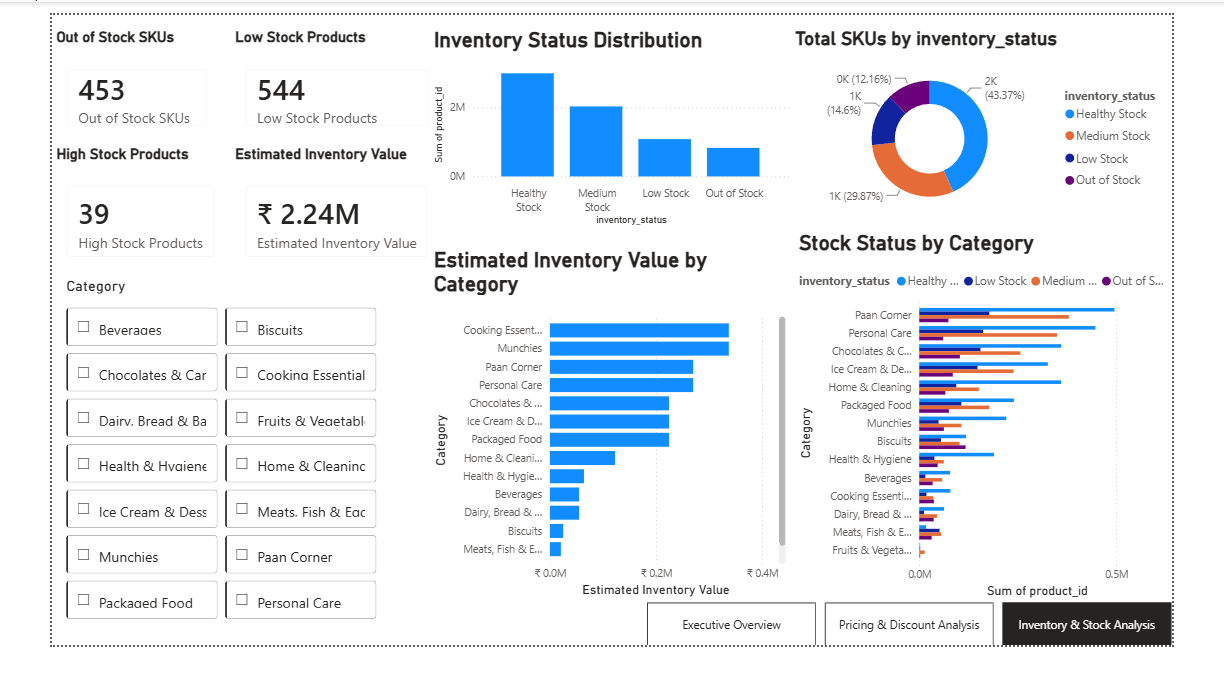

What the dashboard file says about the page in this screenshot:
{"tool":"powerbi","page":{"name":"Inventory & Stock Analysis","canvas":[1280,720],"ordinal":2},"visuals":[{"type":"cardVisual","title":"Low Stock Products","fields":{"Data":["zepto_analysis zepto_analysis.Low Stock Products"]},"box":[203.6,14.4,244,129.2],"z":0},{"type":"donutChart","fields":{"Y":["zepto_analysis zepto_analysis.Total SKUs"],"Category":["zepto_analysis zepto_analysis.inventory_status"]},"box":[844.4,14.4,435.9,219.3],"z":1000},{"type":"cardVisual","title":"High Stock Products","fields":{"Data":["zepto_analysis zepto_analysis.High Stock Products"]},"box":[0,148.8,203.6,146.2],"z":2000},{"type":"cardVisual","title":"Estimated Inventory Value","fields":{"Data":["zepto_analysis zepto_analysis.Estimated Inventory Value"]},"box":[204.9,148.8,242.7,146.2],"z":3000},{"type":"cardVisual","title":"Out of Stock SKUs","fields":{"Data":["zepto_analysis zepto_analysis.Out of Stock SKUs"]},"box":[0,14.4,194.5,129.2],"z":4000},{"type":"clusteredColumnChart","title":"Inventory Status Distribution","fields":{"Category":["zepto_analysis zepto_analysis.inventory_status"],"Y":["Sum(zepto_analysis zepto_analysis.product_id)"]},"box":[432,14.4,416.3,231],"z":5000},{"type":"clusteredBarChart","title":"Stock Status by Category","fields":{"Category":["zepto_analysis zepto_analysis.Category"],"Y":["Sum(zepto_analysis zepto_analysis.product_id)"],"Series":["zepto_analysis zepto_analysis.inventory_status"]},"box":[848.3,245.4,432,425.4],"z":6000},{"type":"clusteredBarChart","fields":{"Category":["zepto_analysis zepto_analysis.Category"],"Y":["zepto_analysis zepto_analysis.Estimated Inventory Value"]},"box":[432,266.2,412.4,404.6],"z":6001},{"type":"advancedSlicerVisual","fields":{"Values":["zepto_analysis zepto_analysis.Category"]},"box":[11.7,294.9,364.1,402],"z":6002},{"type":"pageNavigator","box":[679.9,670.8,600,50],"z":6003}]}

Visuals, with their boxes in screenshot pixels (x1, y1, x2, y2), scaled from the page's 1280x720 canvas onto the 1224x684 screenshot:
"Low Stock Products" cardVisual: (195, 14, 428, 136)
donutChart - zepto_analysis zepto_analysis.Total SKUs x zepto_analysis zepto_analysis.inventory_status: (807, 14, 1223, 222)
"High Stock Products" cardVisual: (0, 141, 195, 280)
"Estimated Inventory Value" cardVisual: (196, 141, 428, 280)
"Out of Stock SKUs" cardVisual: (0, 14, 186, 136)
"Inventory Status Distribution" clusteredColumnChart: (413, 14, 811, 233)
"Stock Status by Category" clusteredBarChart: (811, 233, 1223, 637)
clusteredBarChart - zepto_analysis zepto_analysis.Category x zepto_analysis zepto_analysis.Estimated Inventory Value: (413, 253, 807, 637)
advancedSlicerVisual - zepto_analysis zepto_analysis.Category: (11, 280, 359, 662)
pageNavigator: (650, 637, 1223, 683)
